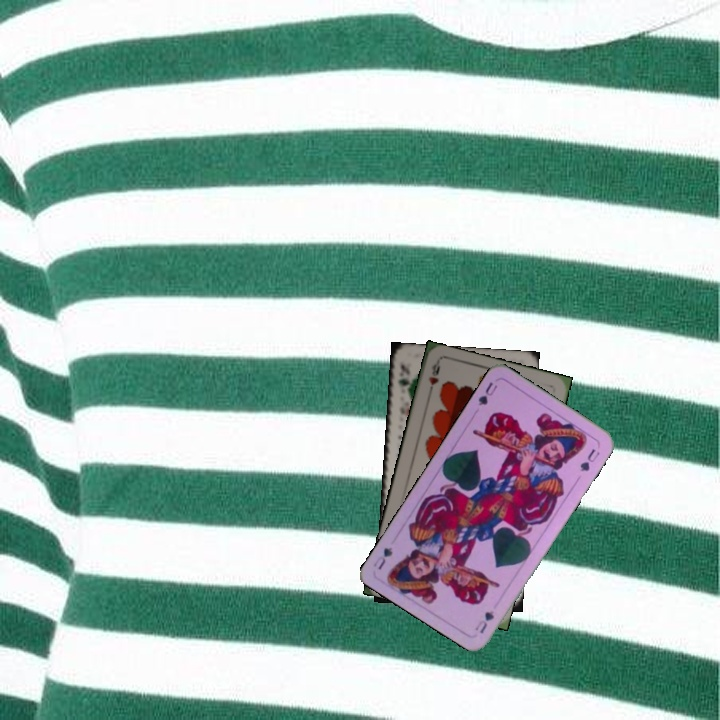GK: (394, 360, 412, 399)
GU: (474, 378, 500, 408), (471, 607, 497, 636)
H9: (424, 359, 443, 399)
